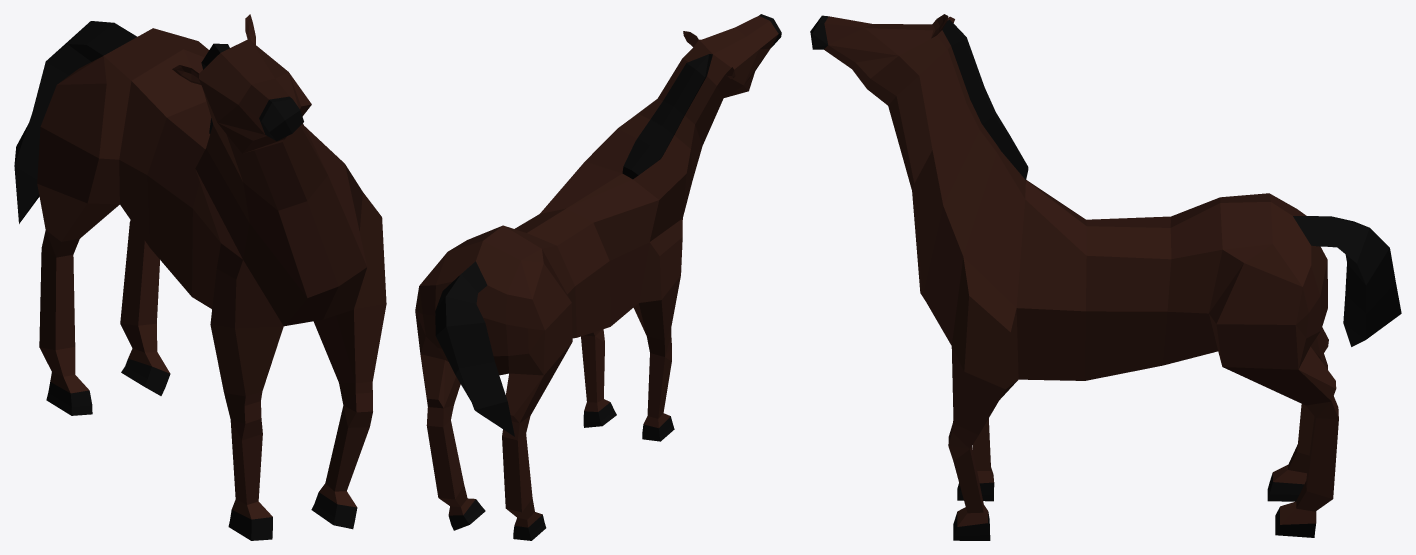
Rendered from Horse_000006.obj.
3 renders of one model, left to right at view 1: azimuth 30°, elevation 25°; view 2: azimuth 150°, elevation 25°; view 3: azimuth 270°, elevation 25°, orthographic. The views are drawn at different scales.
Visible parts, largest first — view 1: Horse_Cylinder; view 2: Horse_Cylinder; view 3: Horse_Cylinder.
Part boxes in pixels (box(x1,y1,x2,y2)): Horse_Cylinder: box(14, 14, 386, 540); Horse_Cylinder: box(415, 14, 781, 540); Horse_Cylinder: box(810, 14, 1401, 540).
Size of the model in its own units: 3.51 by 7.68 by 8.59.
